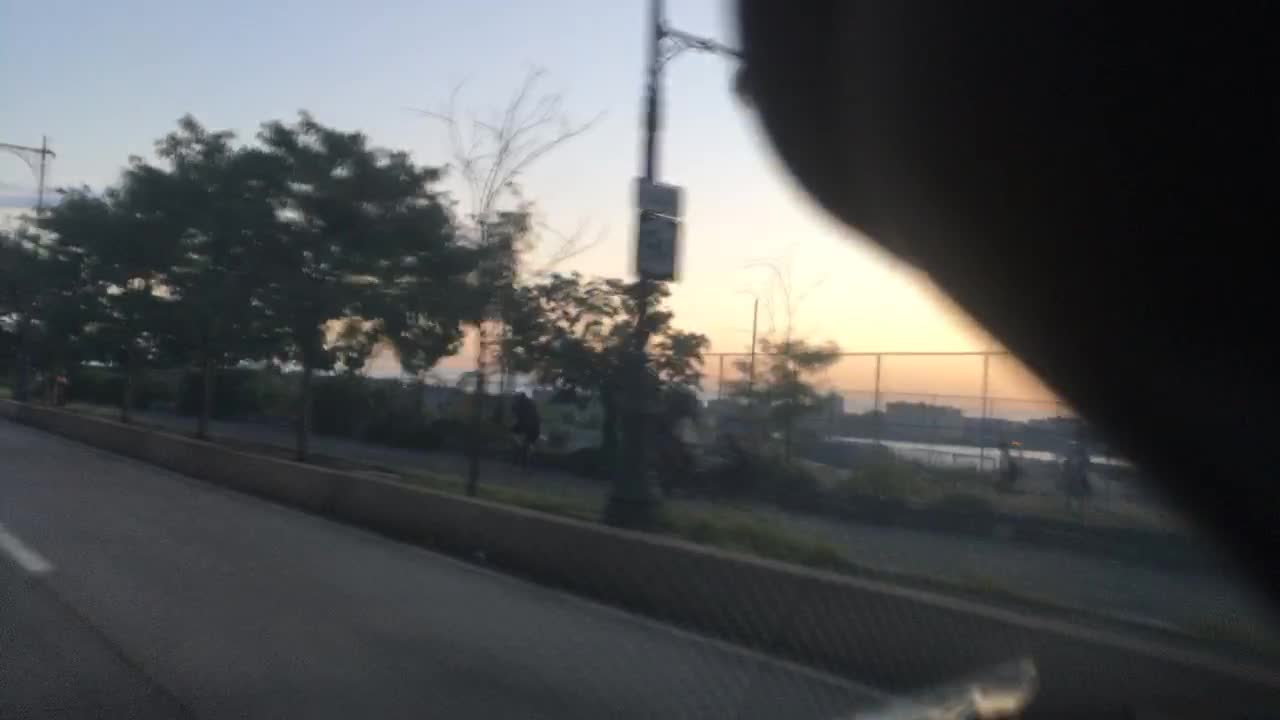person: (512, 386, 543, 473), (1056, 428, 1092, 494), (992, 440, 1017, 496)
traffic sign: (634, 214, 680, 284), (639, 183, 683, 216)
